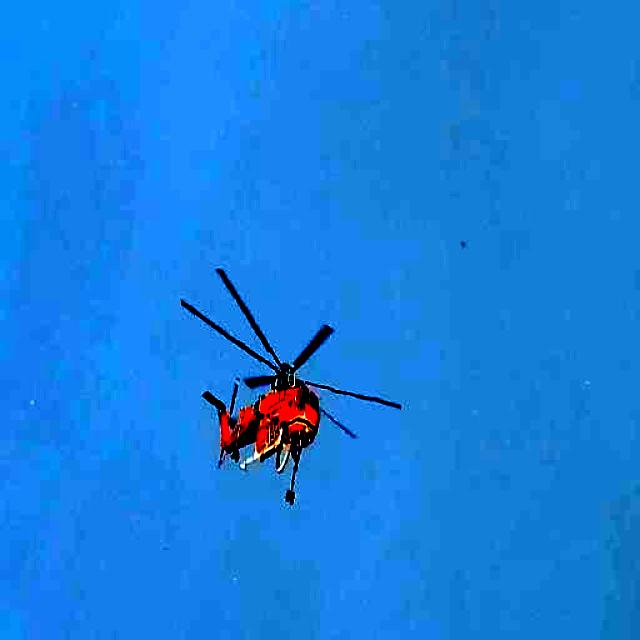drone: (174, 211, 405, 505)
